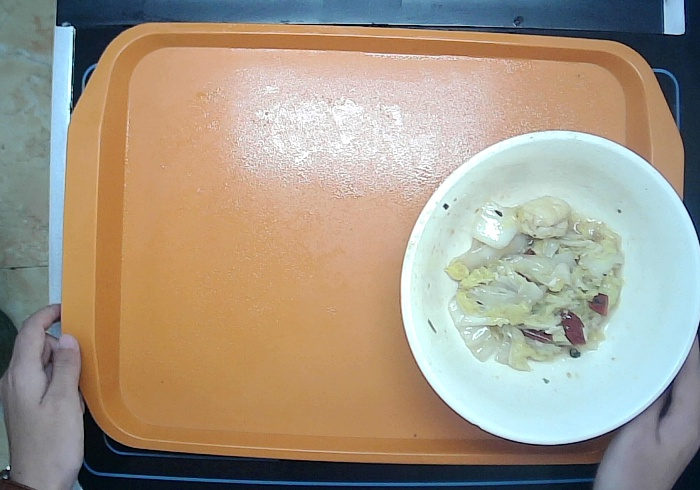ZNLD-Da_Tang_Wan: (396, 127, 700, 450)
